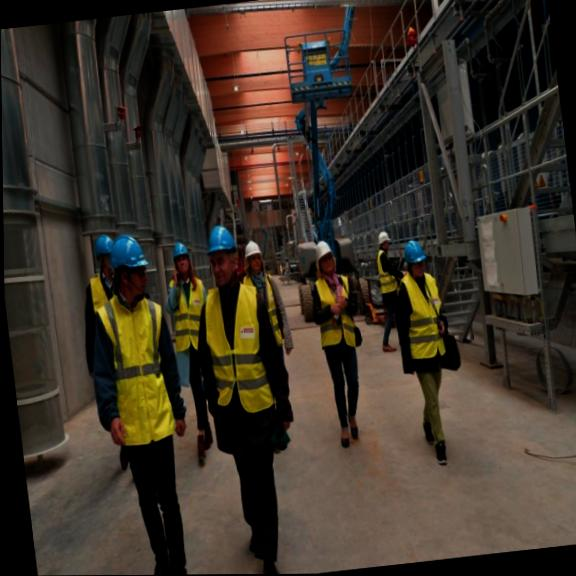safety_vest: (93, 287, 185, 457), (195, 271, 286, 437), (392, 261, 448, 374), (305, 270, 361, 373), (168, 274, 213, 358), (372, 241, 399, 305)
